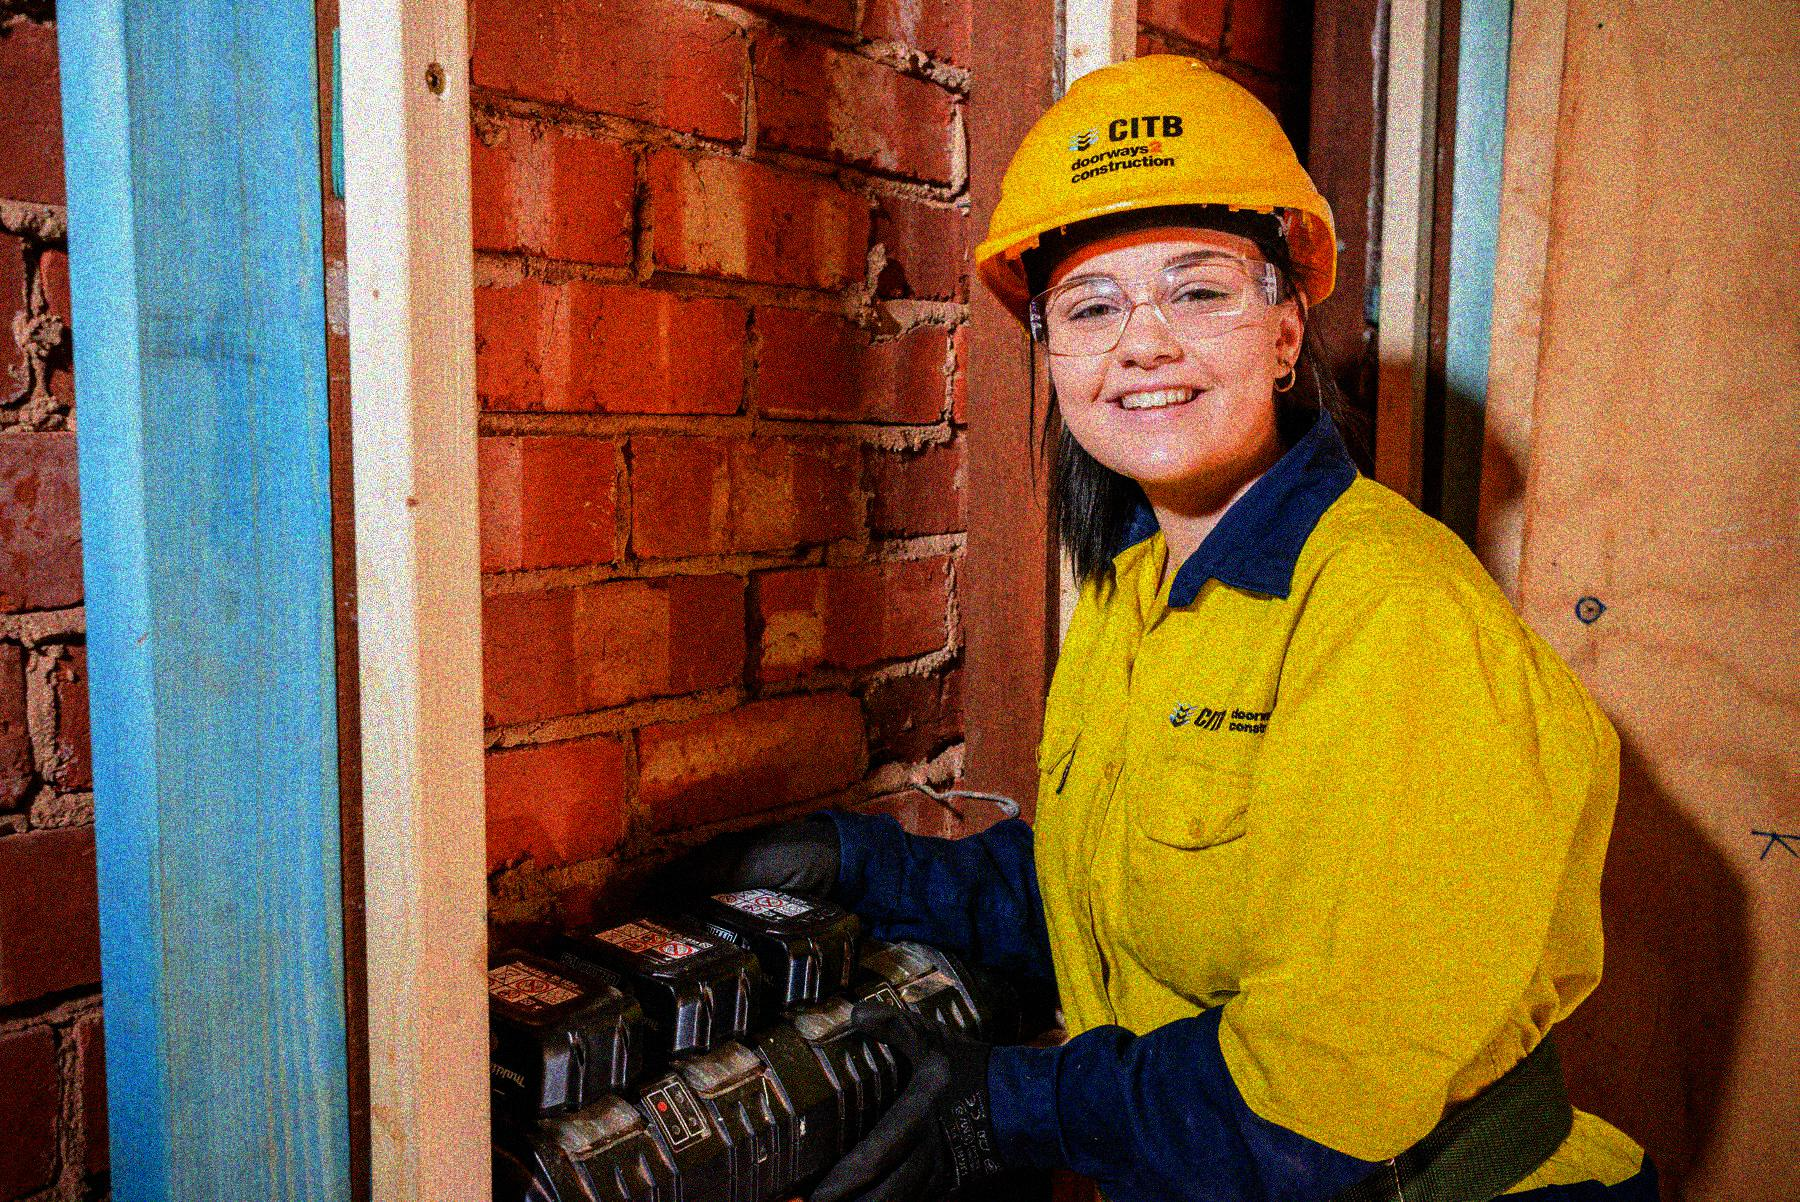helmet: (963, 50, 1347, 484)
